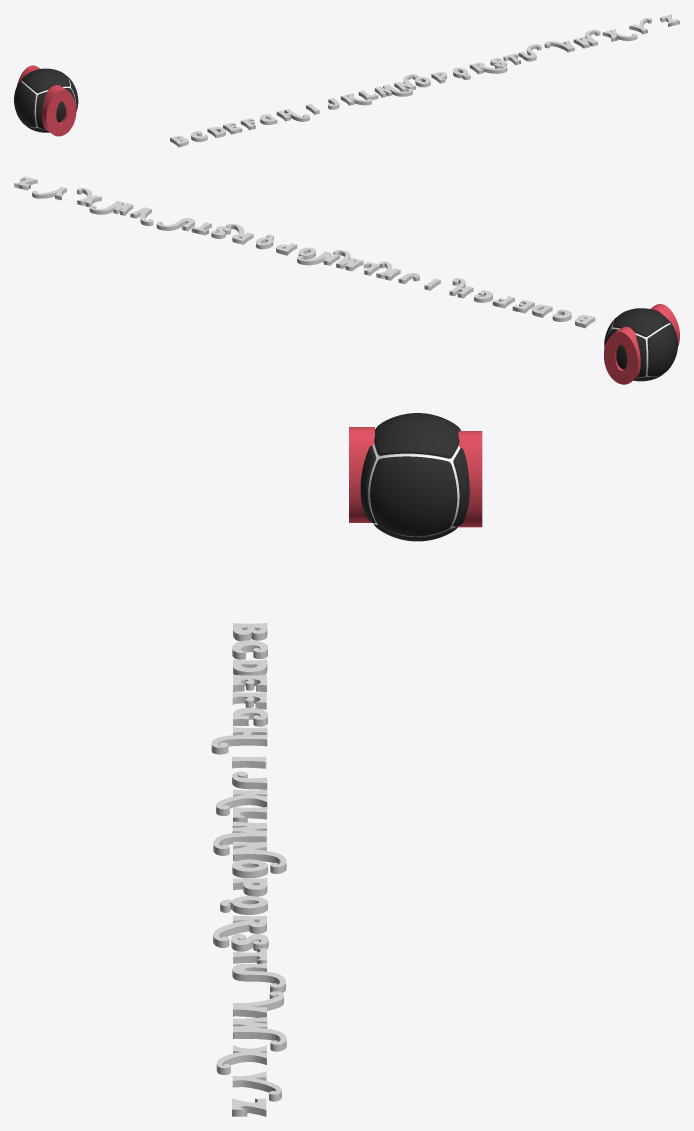
3 renders of one model, top to bottom at view 1: azimuth 30°, elevation 25°; view 2: azimuth 150°, elevation 25°; view 3: azimuth 270°, elevation 25°, orthographic. The views are drawn at different scales.
Parts seen in each view (by area): view 1: Cube.001, A, M, W, R, H, X, N, U, K, V; view 2: Cube.001, A.001, W, N, M, U, A; view 3: Cube.001, A.001, A, W, M.
Boxes of the visible parts, x1=… form: Cube.001: x1=14, y1=68, x2=78, y2=132; A: x1=42, y1=85, x2=76, y2=136; M: x1=374, y1=84, x2=412, y2=97; W: x1=573, y1=29, x2=600, y2=48; R: x1=469, y1=62, x2=507, y2=74; H: x1=276, y1=108, x2=309, y2=121; X: x1=602, y1=29, x2=637, y2=41; N: x1=394, y1=74, x2=418, y2=91; U: x1=518, y1=44, x2=541, y2=61; K: x1=340, y1=93, x2=371, y2=105; V: x1=544, y1=40, x2=574, y2=52; Cube.001: x1=604, y1=308, x2=677, y2=381; A.001: x1=604, y1=326, x2=640, y2=384; W: x1=89, y1=200, x2=133, y2=215; N: x1=297, y1=251, x2=340, y2=265; M: x1=333, y1=250, x2=363, y2=271; U: x1=156, y1=218, x2=194, y2=231; A: x1=650, y1=304, x2=679, y2=346; Cube.001: x1=360, y1=413, x2=469, y2=541; A.001: x1=457, y1=431, x2=482, y2=527; A: x1=349, y1=427, x2=374, y2=522; W: x1=233, y1=1017, x2=286, y2=1051; M: x1=213, y1=821, x2=266, y2=855.
Bounding box in the file's own units: 1885 × 185 × 360.
